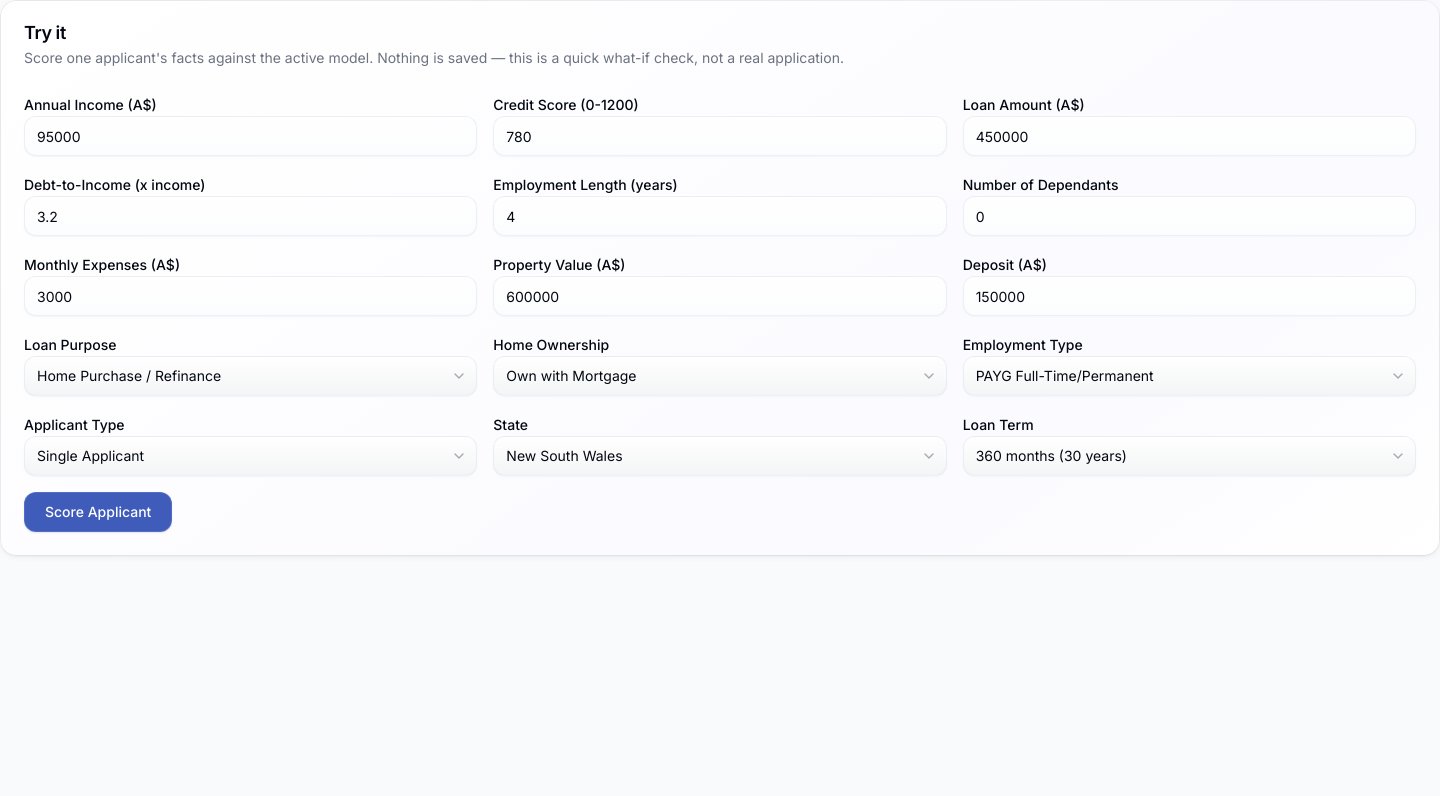
Test case: TryItTab › labels the probability as the approval probability and shows the implied default probability
Click the button "Score Applicant": click(98, 512) 24,492 -> 172,532
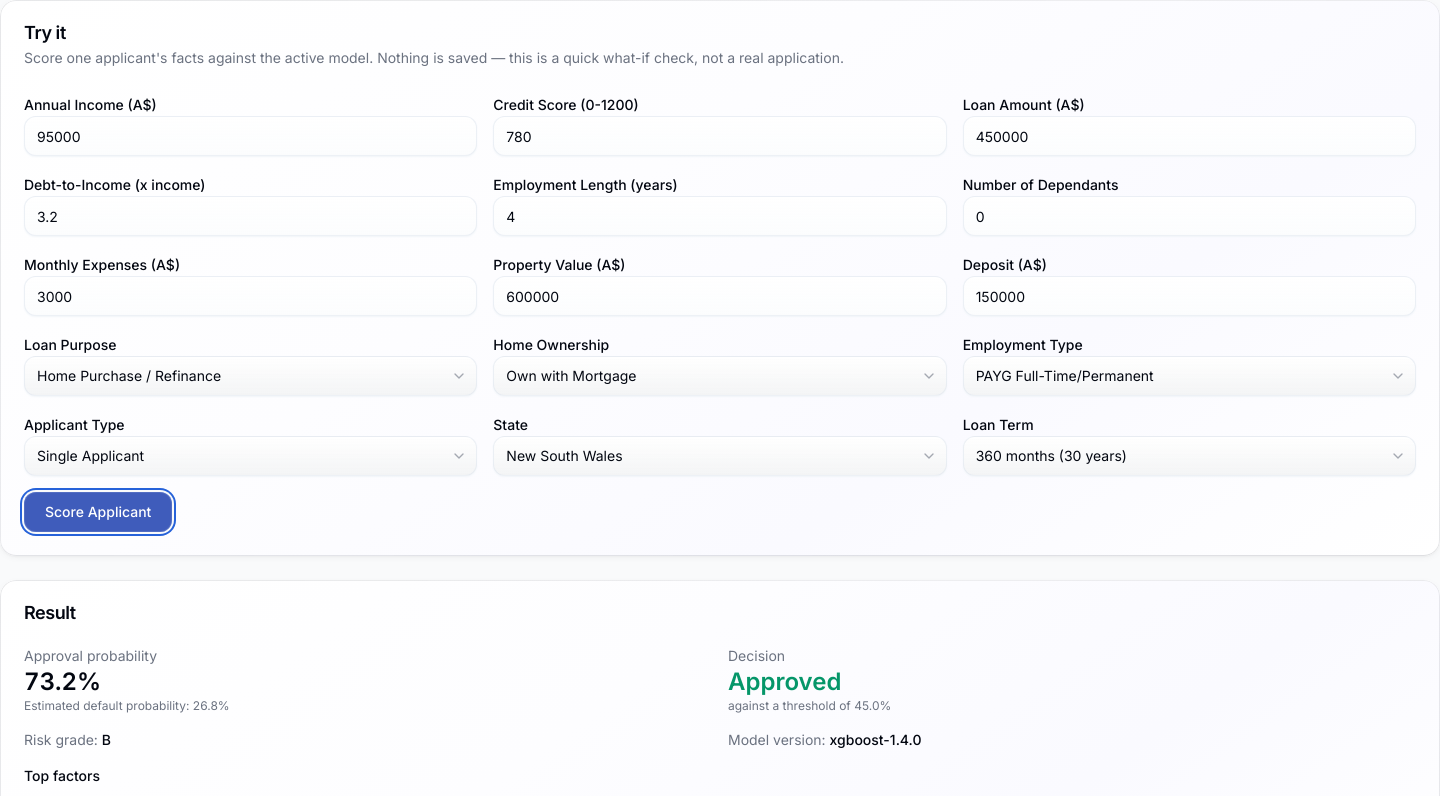
Expected: the text "Approval probability" is shown, 24,647 -> 157,664
Expected: the text "Estimated default probability: 26.8%" is shown, 24,698 -> 230,713
